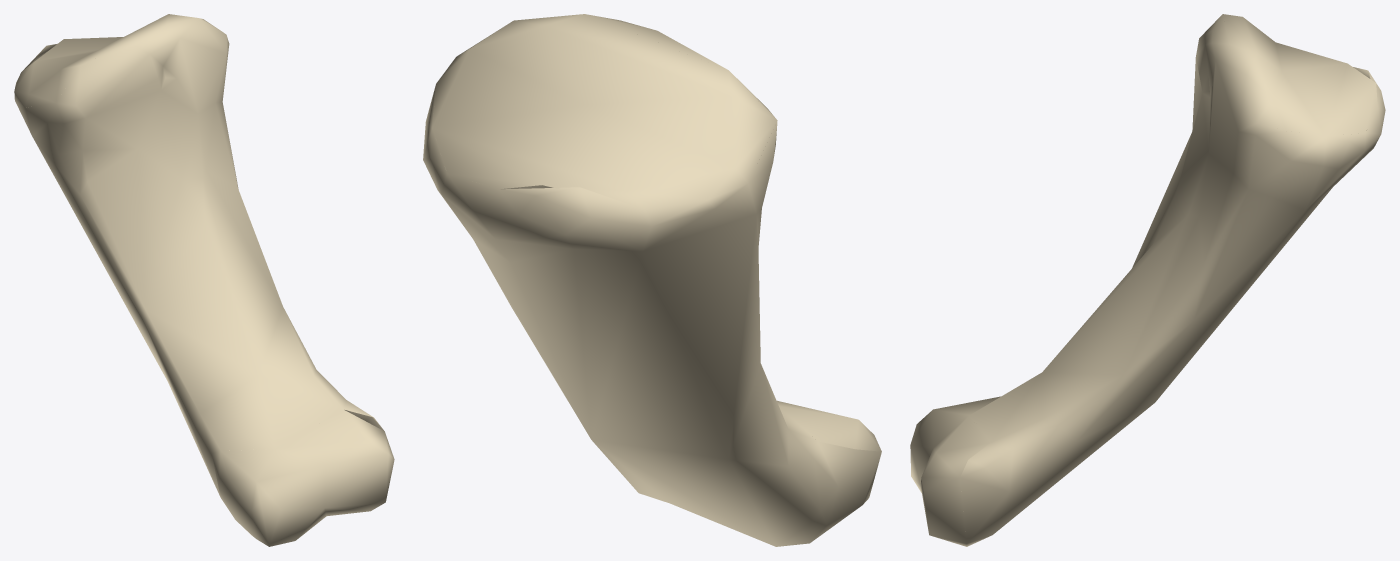
File: esqueleto-middle-phalanx-of-third-finger-of-hand-l.glb
3 renders of one model, left to right at view 1: azimuth 30°, elevation 25°; view 2: azimuth 150°, elevation 25°; view 3: azimuth 270°, elevation 25°, orthographic. The views are drawn at different scales.
Visible parts, largest first — view 1: Middle phalanx of third finger of hand.l; view 2: Middle phalanx of third finger of hand.l; view 3: Middle phalanx of third finger of hand.l.
Boxes of the visible parts, <box> form: Middle phalanx of third finger of hand.l: <box>14,14,394,546</box>; Middle phalanx of third finger of hand.l: <box>423,14,881,546</box>; Middle phalanx of third finger of hand.l: <box>910,14,1385,546</box>.
Bounding box in the file's own units: 0.0142 × 0.0263 × 0.0238.
